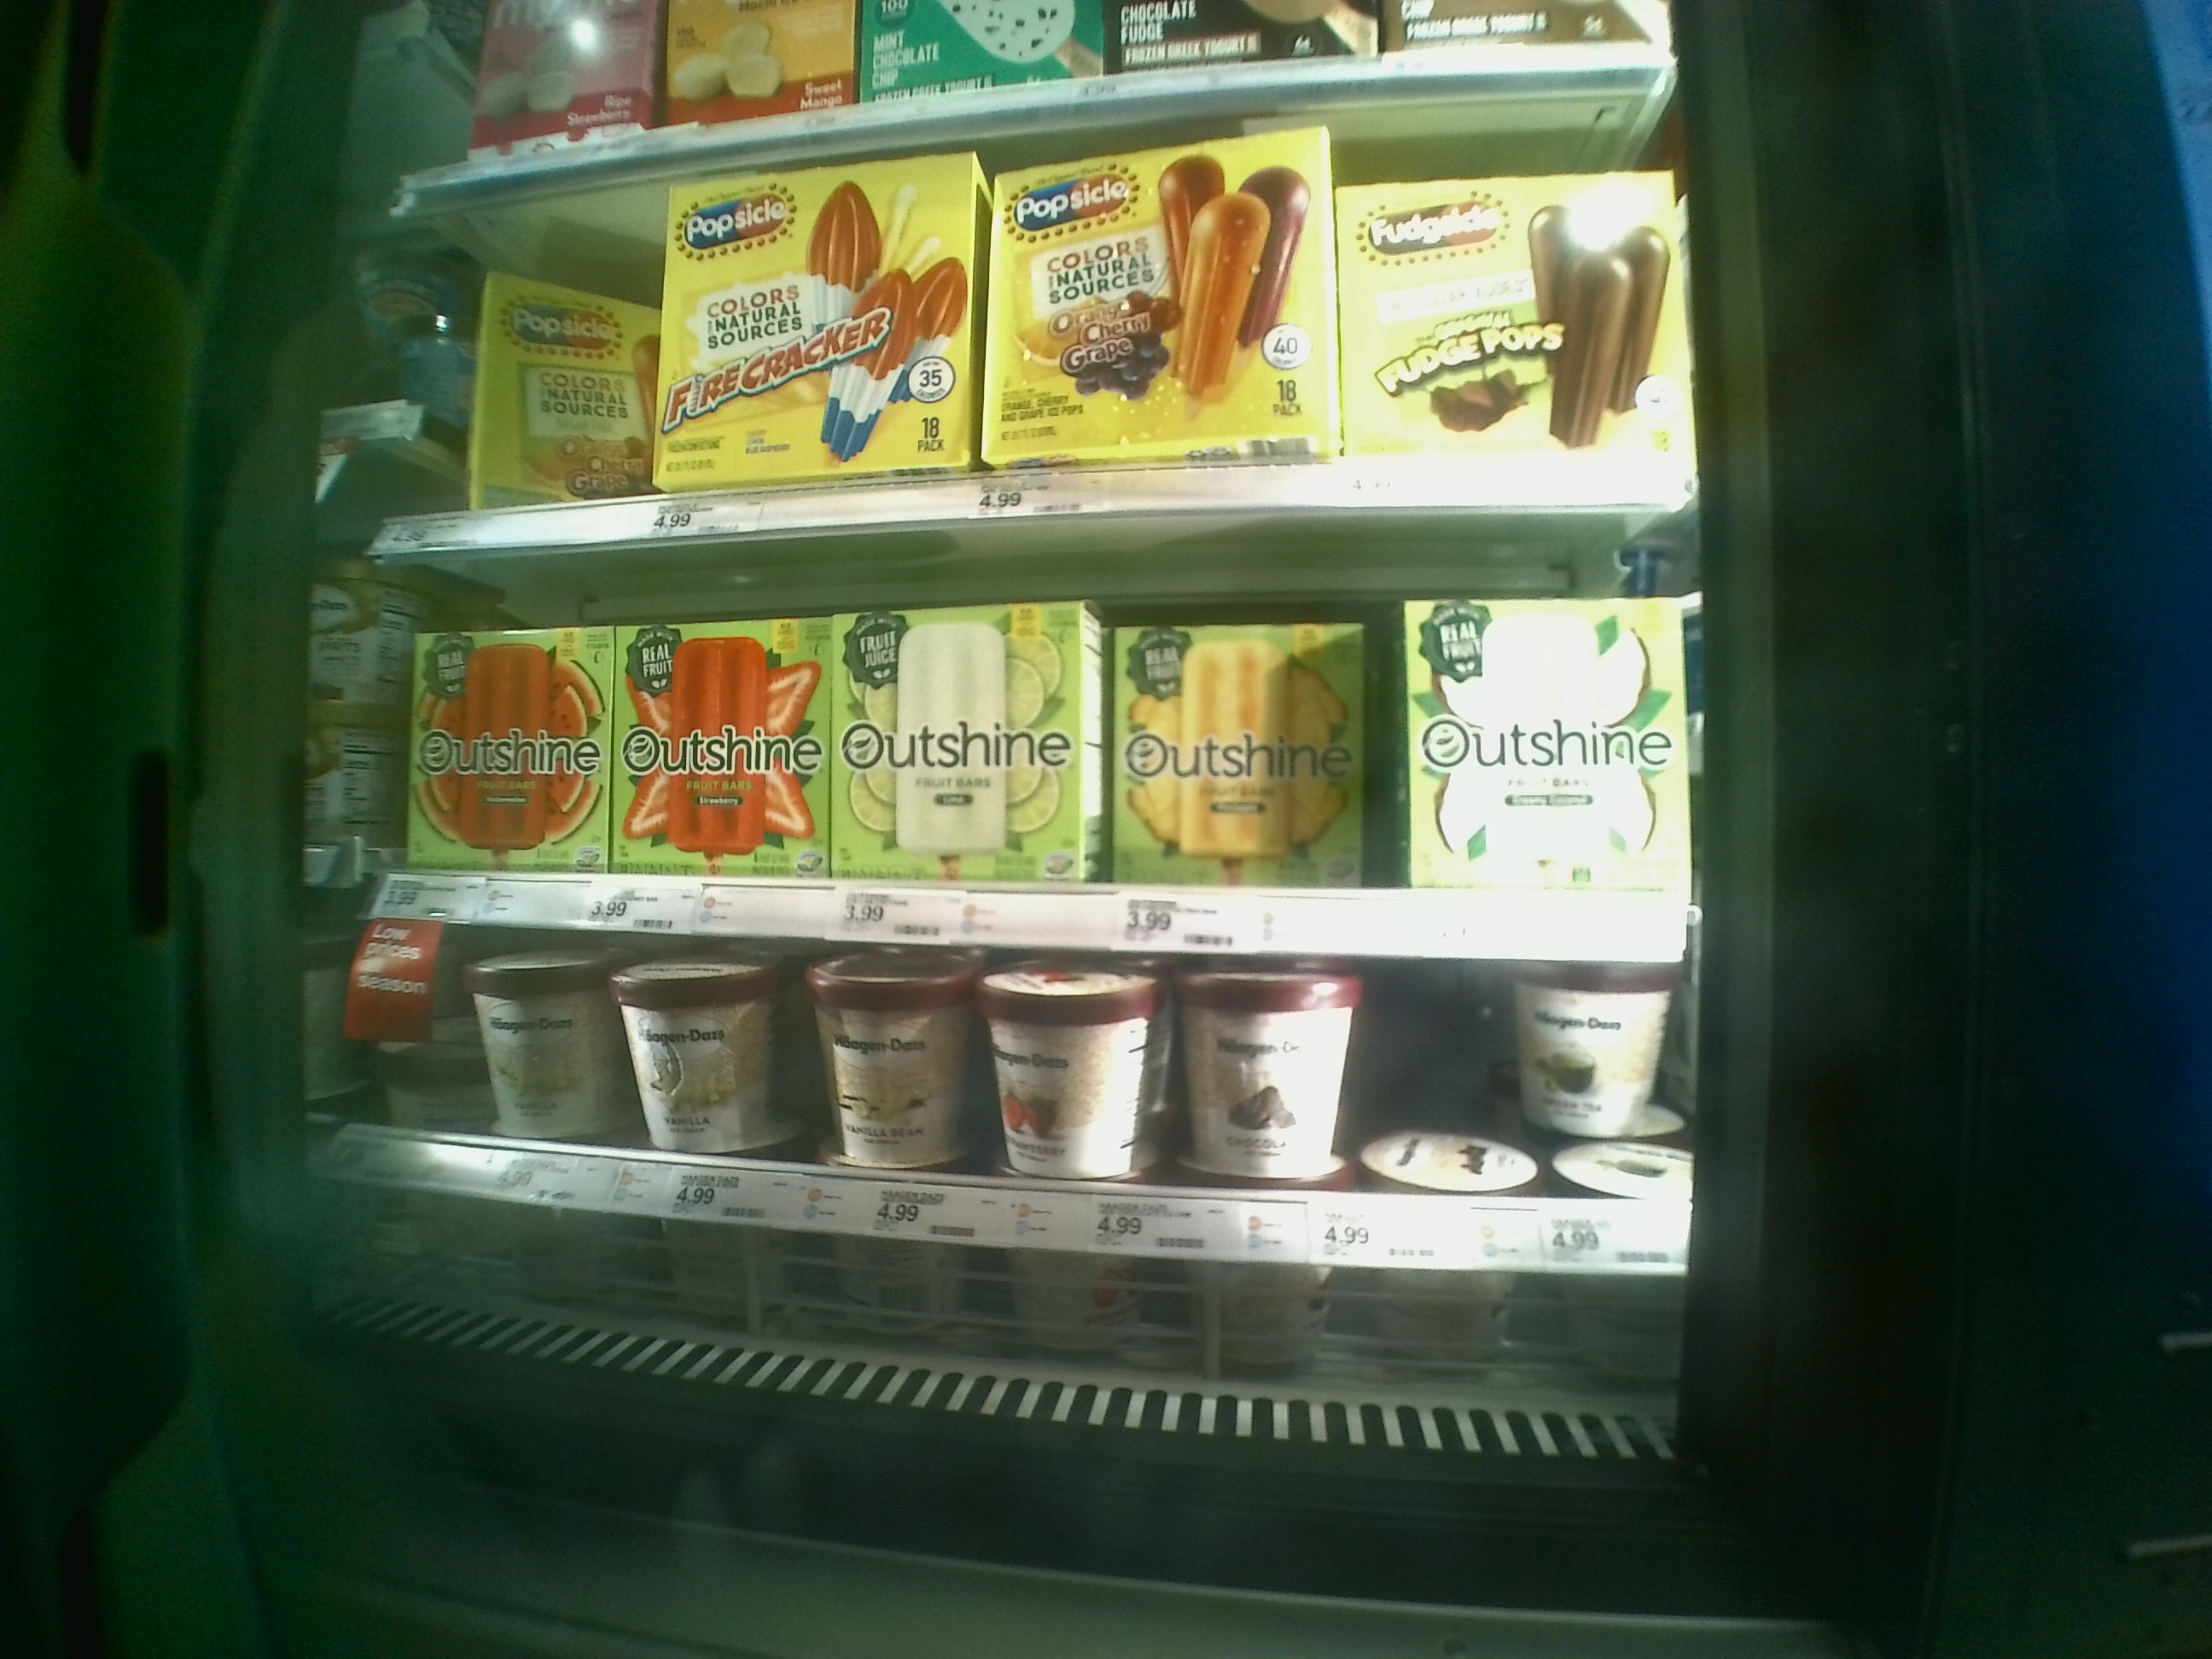shelf: (364, 523, 1696, 962), (359, 962, 1702, 1349), (381, 179, 1712, 516)
